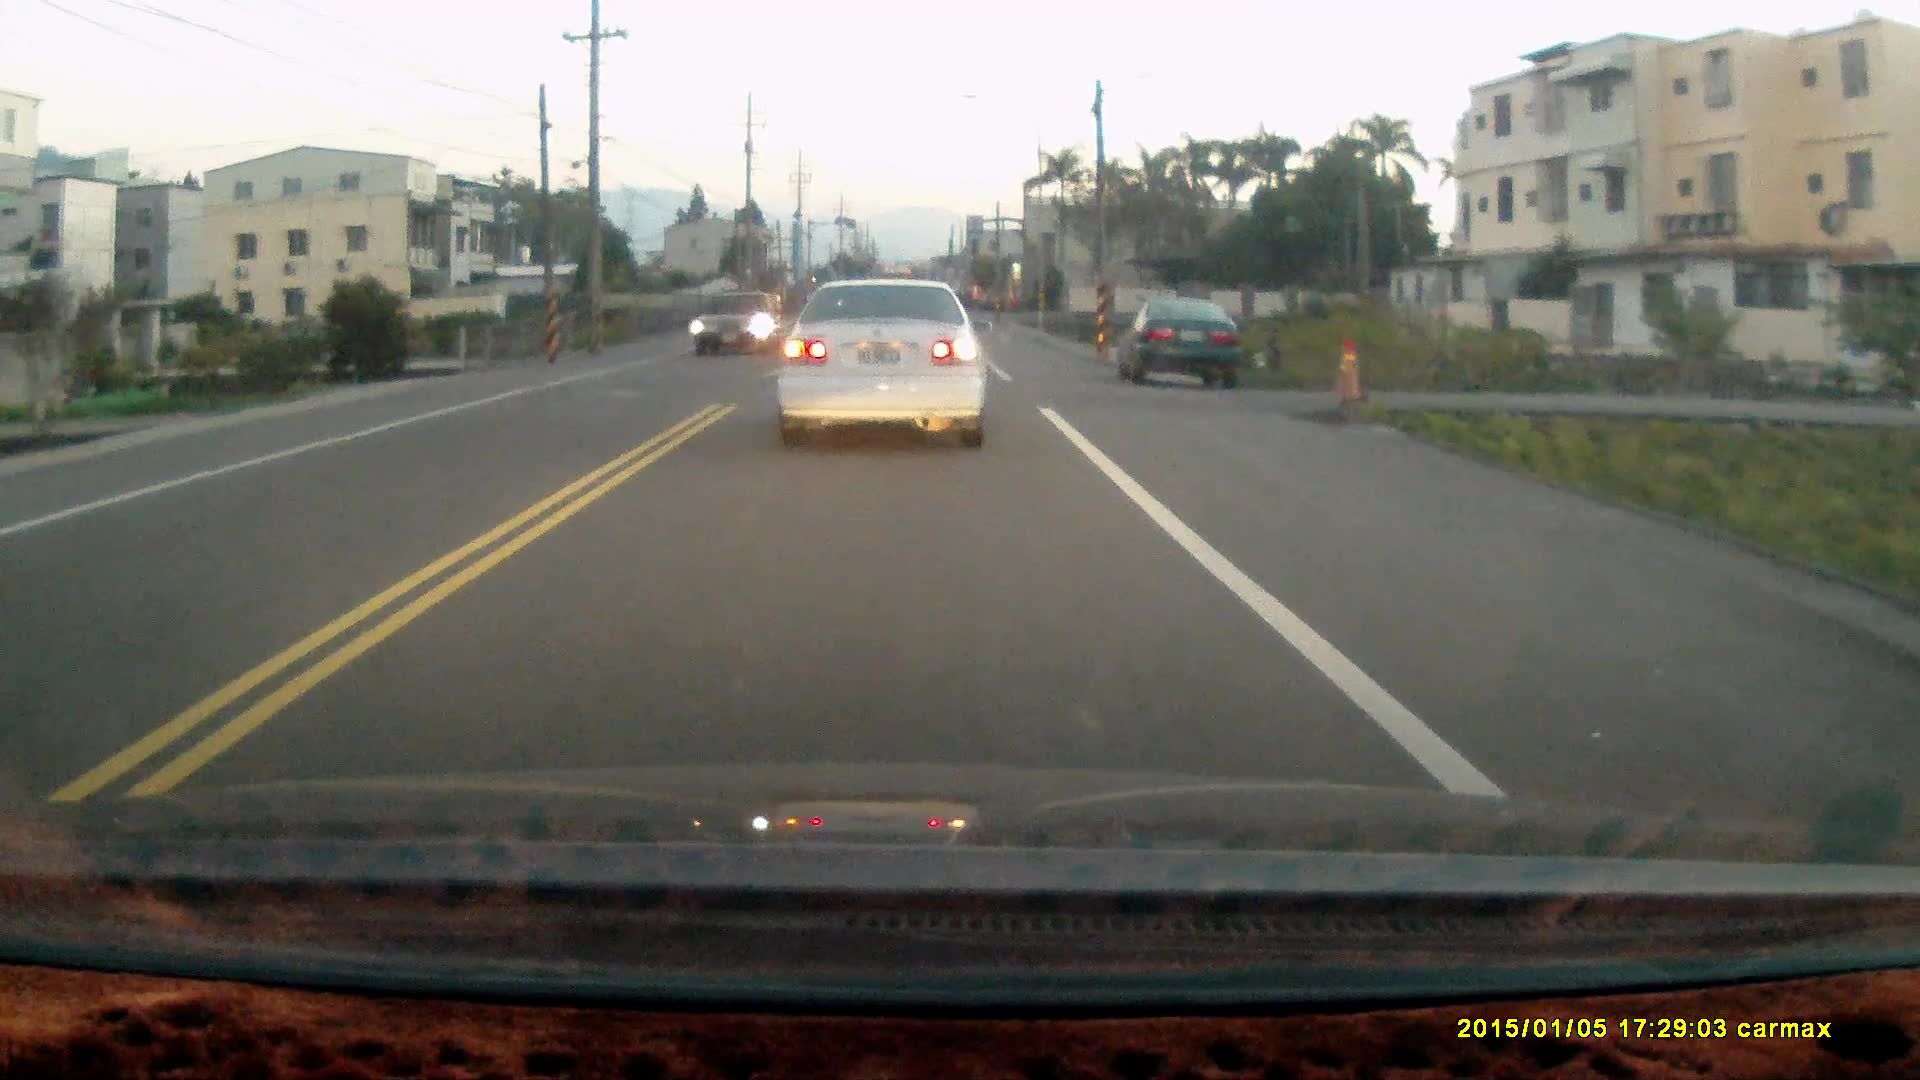pedestrian: (1264, 325, 1285, 375)
vehicle: (773, 277, 990, 456), (1127, 297, 1251, 395), (690, 287, 780, 359)
